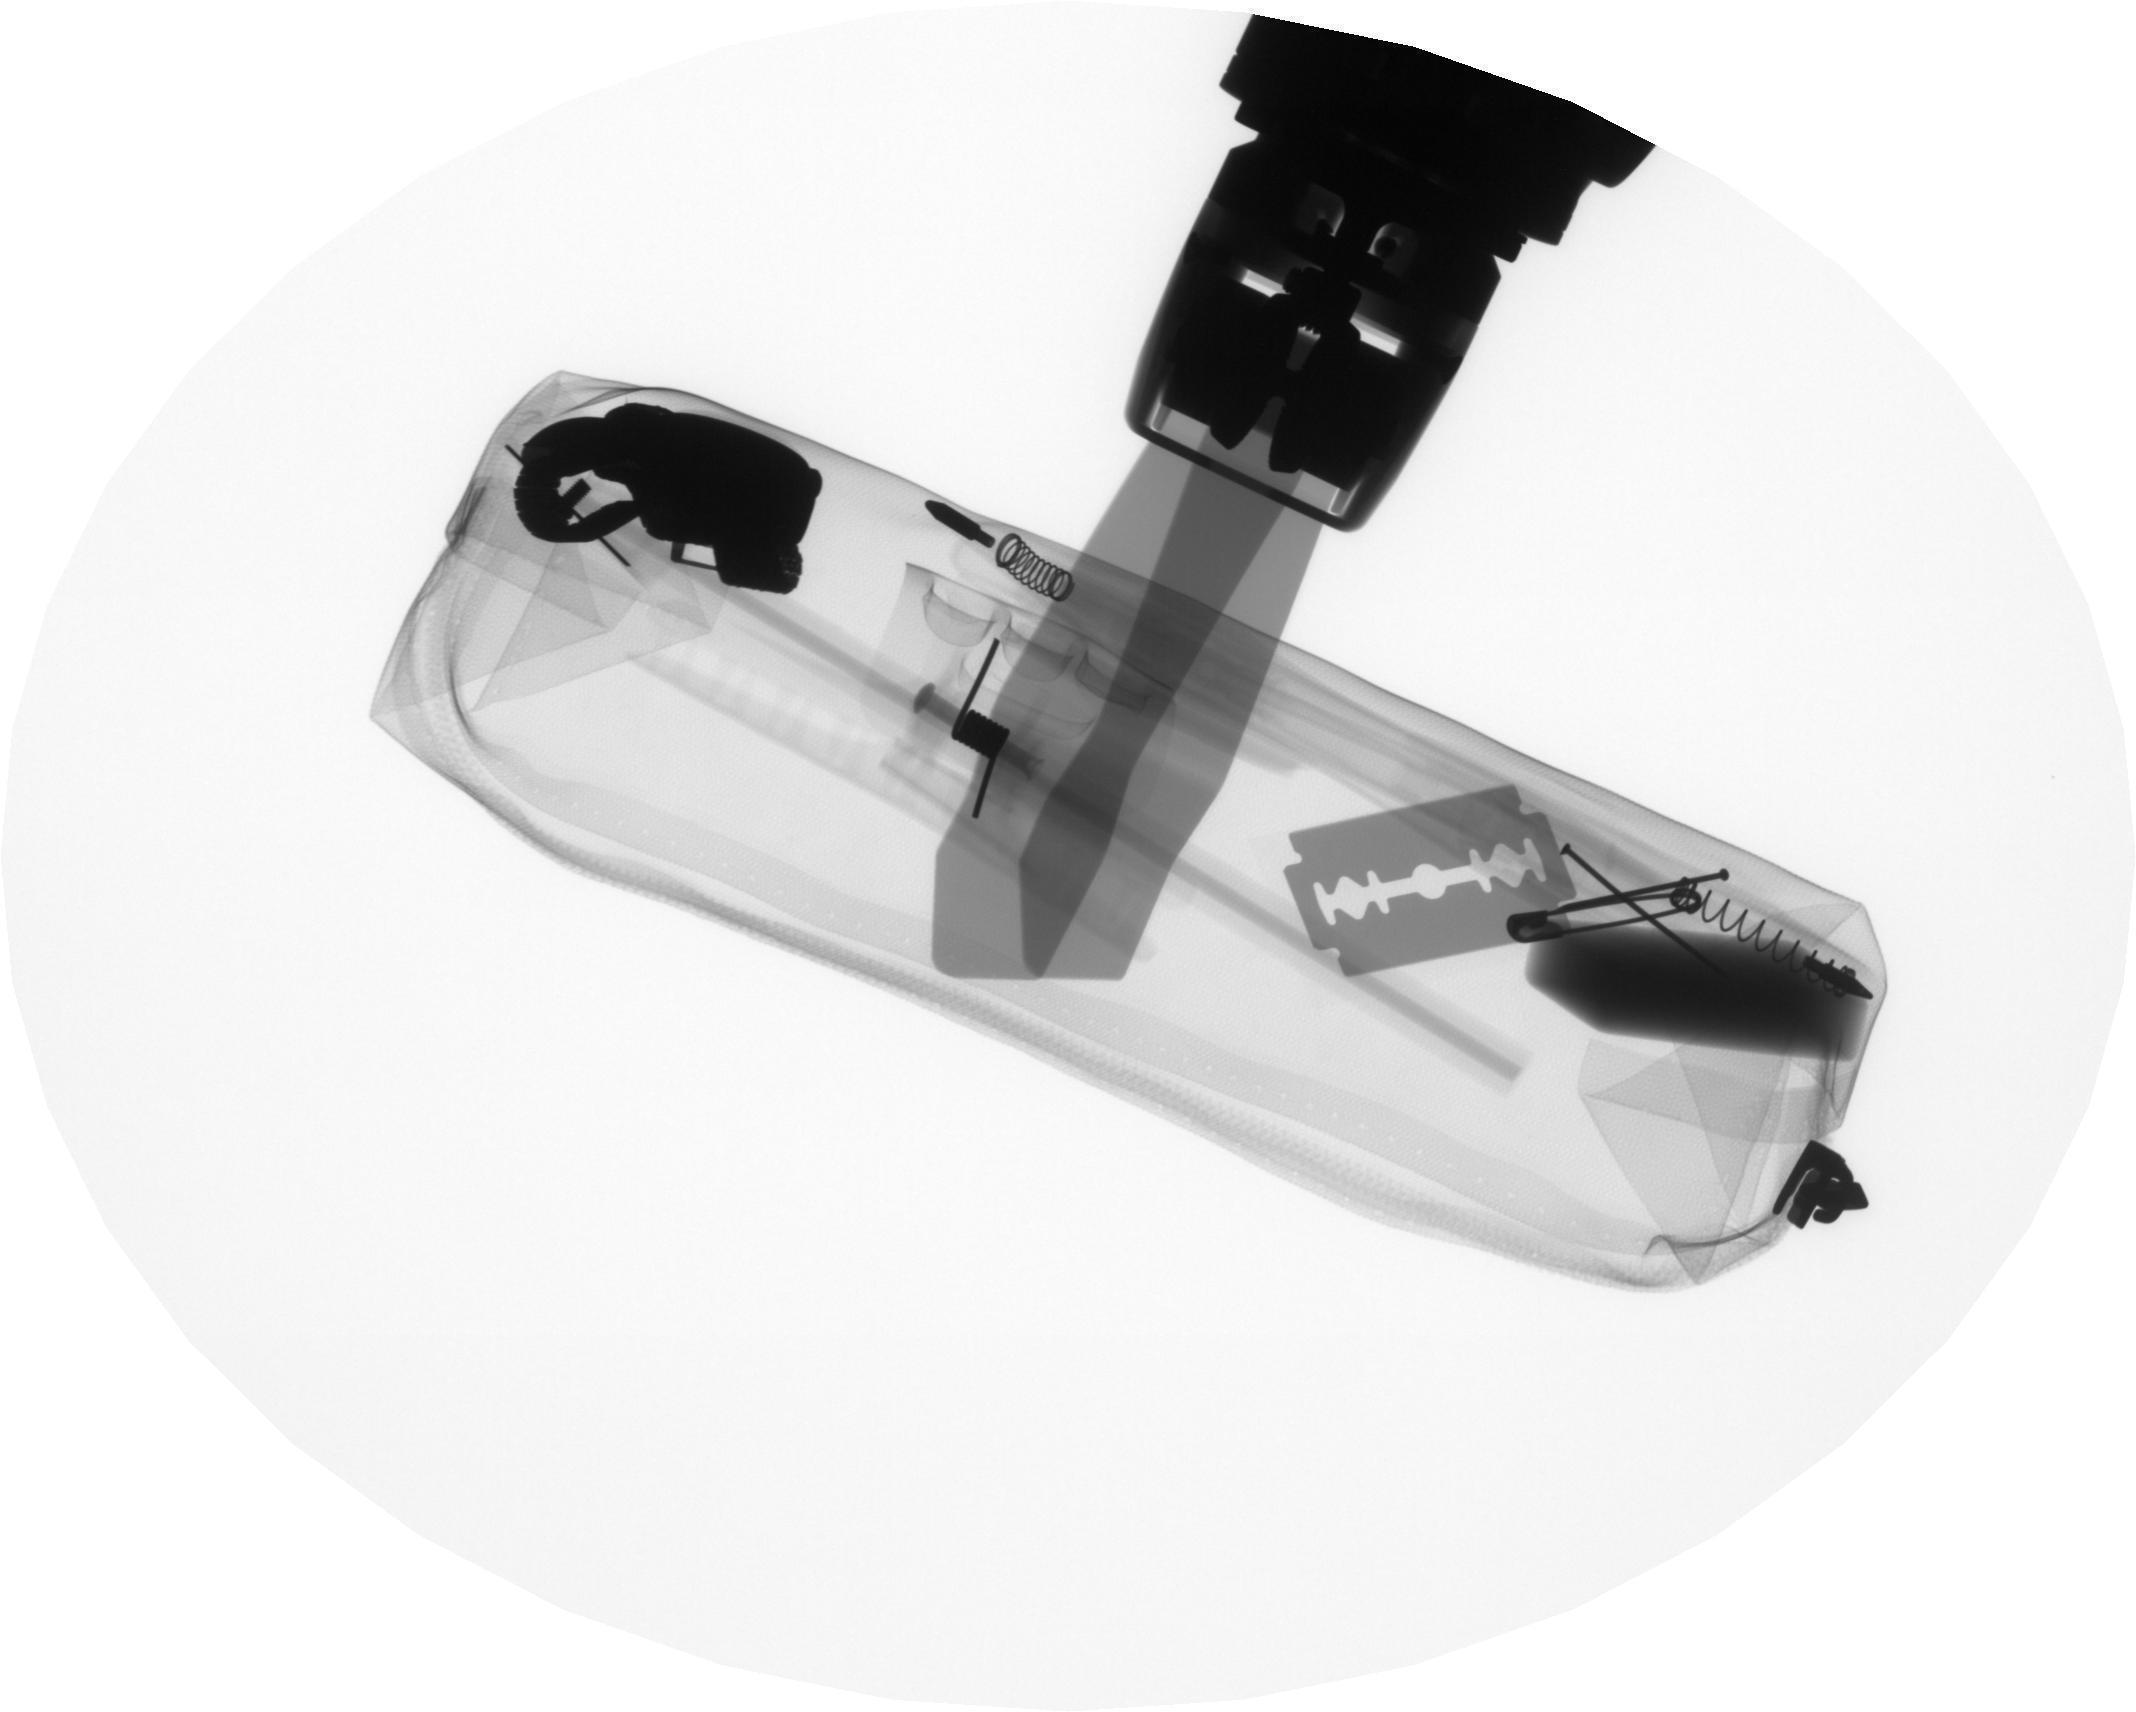RazorBlade: (1277, 776, 1582, 989)
